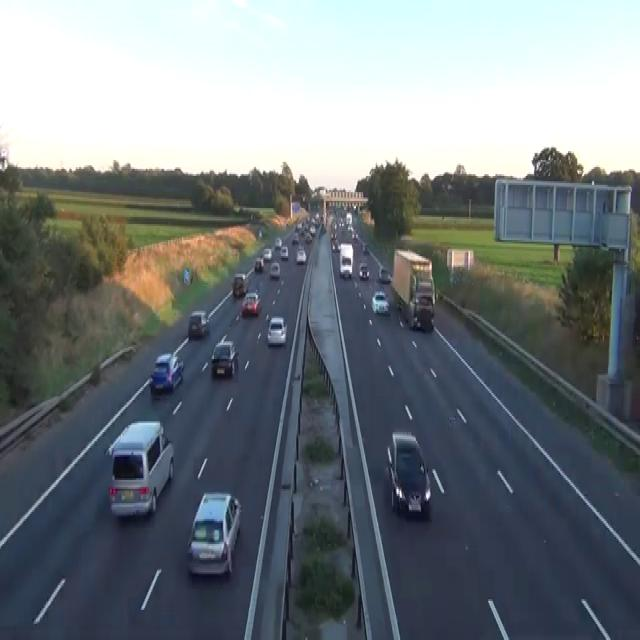Car: (104, 420, 174, 519), (186, 491, 241, 576), (386, 430, 431, 518), (149, 352, 184, 395), (210, 339, 238, 377), (410, 295, 434, 331), (187, 310, 209, 340), (266, 315, 287, 345), (416, 276, 435, 304), (241, 292, 260, 316), (371, 290, 389, 314), (232, 272, 247, 297), (449, 267, 463, 286), (378, 265, 391, 283), (358, 261, 369, 279), (269, 261, 280, 279), (296, 247, 306, 263), (254, 256, 264, 272), (262, 247, 272, 260), (280, 246, 288, 260), (274, 236, 282, 249), (331, 240, 340, 251), (351, 229, 358, 242), (397, 297, 403, 311), (362, 242, 369, 254), (291, 233, 299, 243), (305, 233, 312, 243), (330, 229, 336, 240), (347, 224, 354, 233), (338, 217, 344, 227), (309, 226, 316, 234), (258, 230, 262, 238)
Truck: (391, 247, 435, 331), (339, 242, 353, 277)
